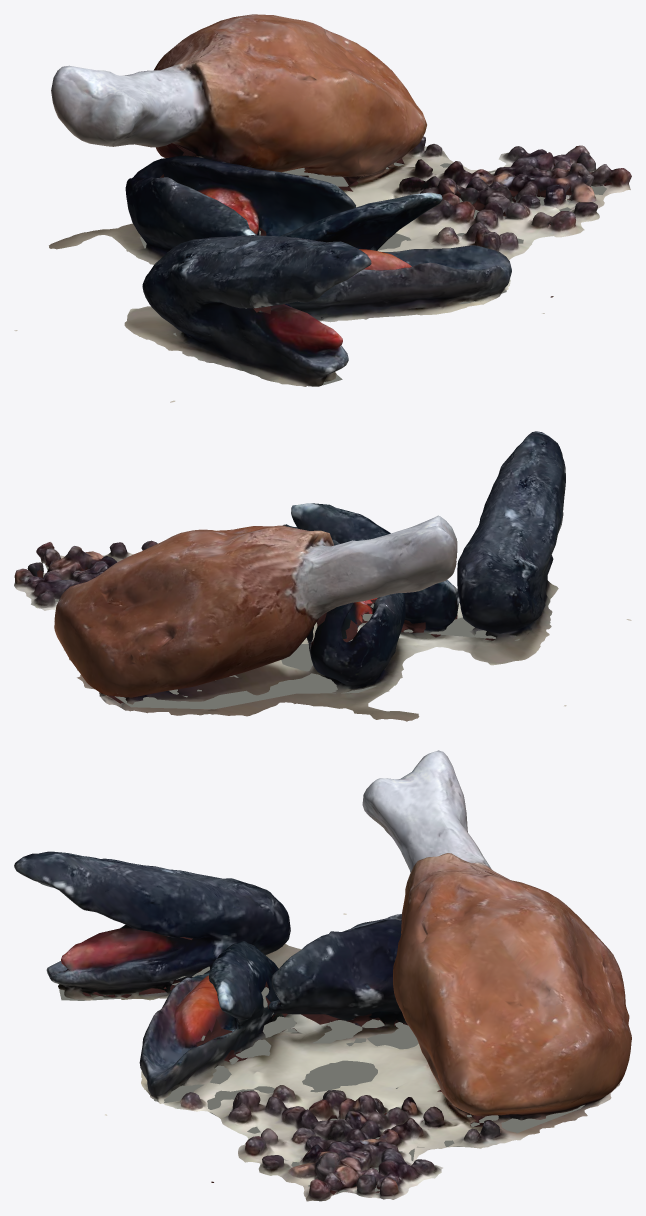
3 views of the same model, one above another, from view 1: azimuth 30°, elevation 25°; view 2: azimuth 150°, elevation 25°; view 3: azimuth 270°, elevation 25° (orthographic). The views are drawn at different scales.
Visible parts, largest first — view 1: Mesh_0.016, Circle; view 2: Mesh_0.016, Circle; view 3: Mesh_0.016, Circle.
Boxes of the visible parts, left/top/right/bottom form: Mesh_0.016: left=14, top=14, right=631, bottom=402; Circle: left=140, top=162, right=606, bottom=385; Mesh_0.016: left=14, top=431, right=631, bottom=721; Circle: left=43, top=564, right=519, bottom=709; Mesh_0.016: left=14, top=750, right=631, bottom=1201; Circle: left=59, top=966, right=584, bottom=1195.
Bounding box in the file's own units: 2.08 × 0.7956 × 1.81.
9 materials, 8 textured.
